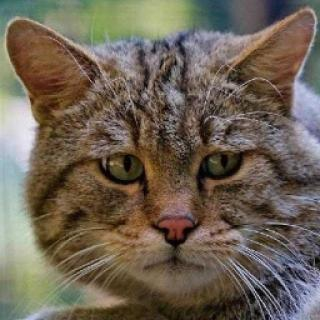cat: (7, 11, 320, 305)
nose: (143, 182, 207, 250)
